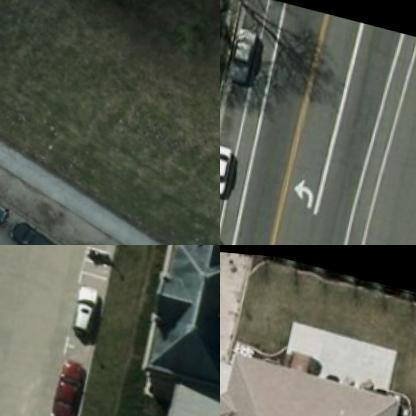car: (64, 280, 106, 334), (54, 357, 92, 415), (229, 19, 261, 81), (12, 213, 71, 244), (220, 139, 234, 195), (0, 180, 16, 228)
